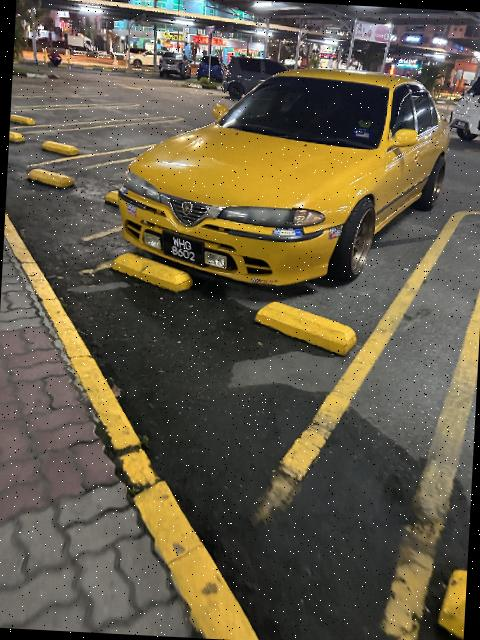License_Plate: (162, 230, 208, 266)
car: (111, 51, 461, 306)
